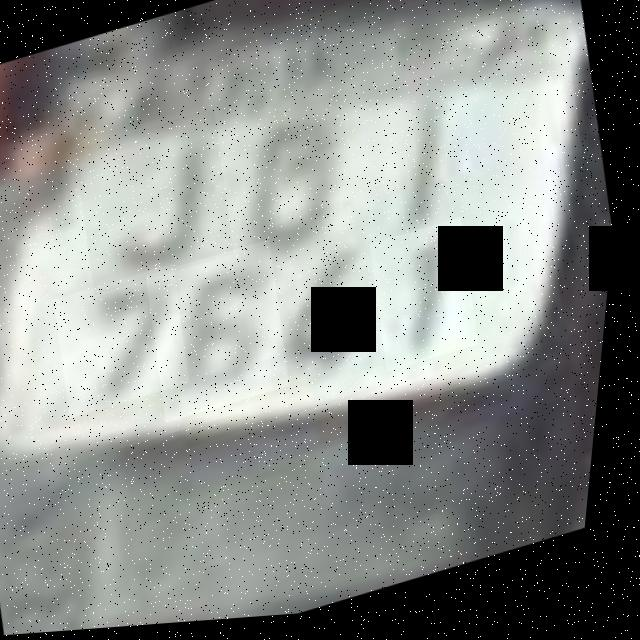1: (365, 223, 496, 379)
4: (250, 228, 400, 404)
6: (140, 241, 308, 427)
7: (51, 265, 207, 421)
B: (199, 81, 381, 277)
J: (66, 109, 251, 299)
